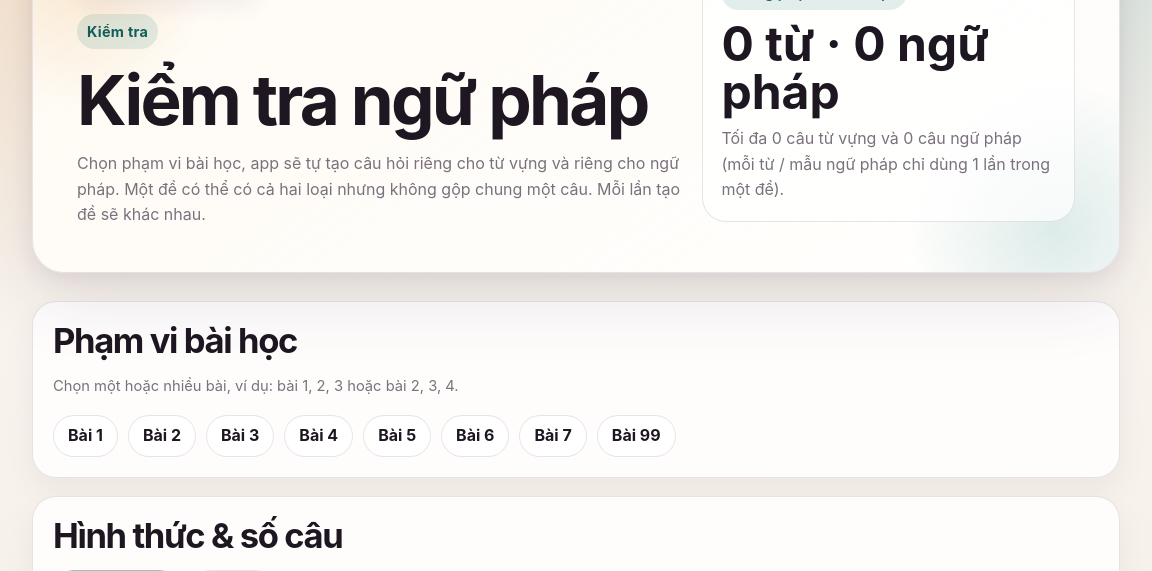
Test: GrammarExamPage — làm đề trắc nghiệm › cho làm đề khác sau khi nộp bài
Click the button "Bài 99".
click(636, 436)  # box [597,415,676,457]
(page scrolled)
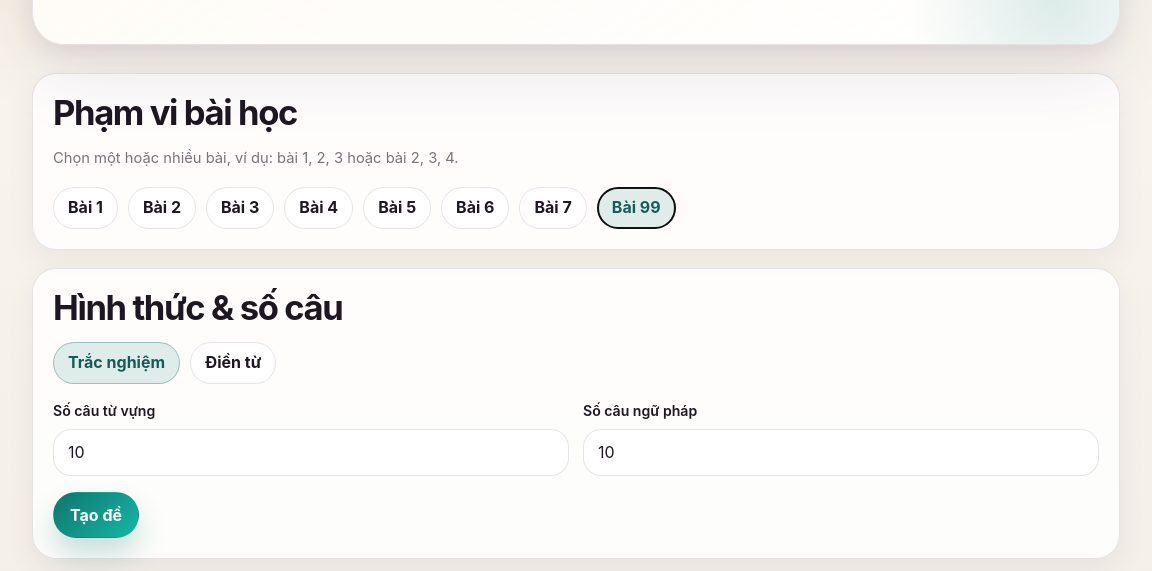
Click the button "Tạo đề".
click(96, 515)  # box [53,492,139,538]
(page scrolled)
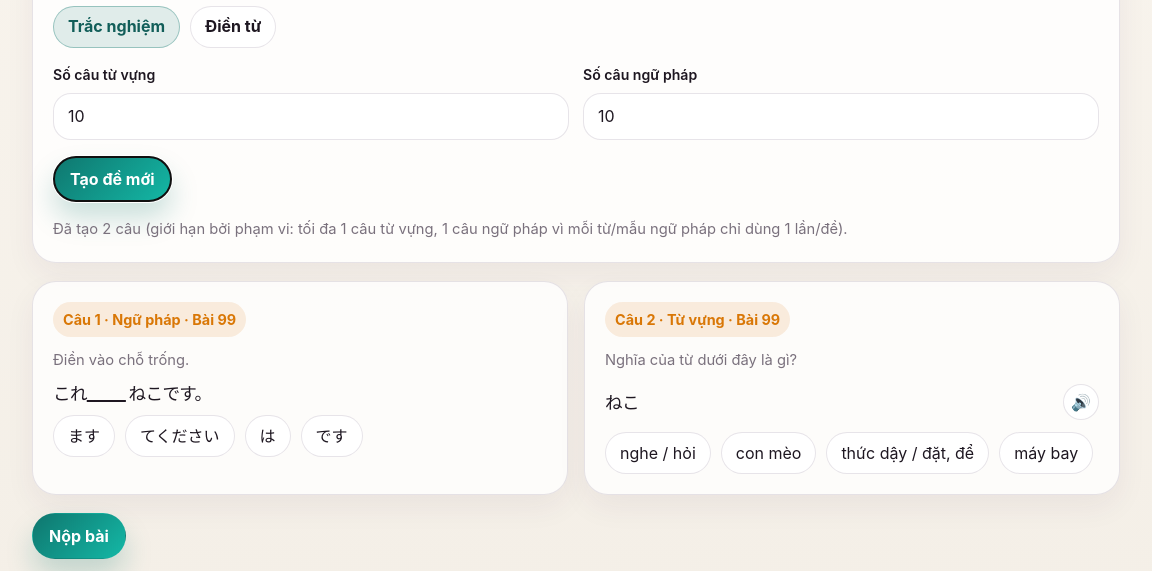
Click the button "Nộp bài".
click(79, 536)  # box [32,514,126,560]
(page scrolled)
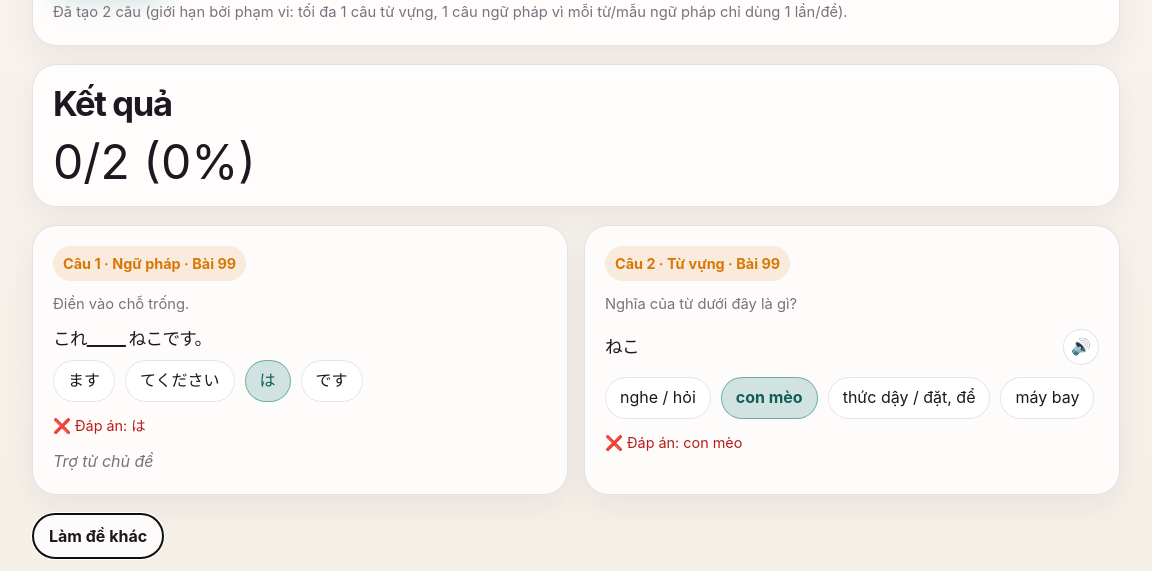
Click the button "Làm đề khác".
click(98, 536)  # box [32,513,164,559]
(page scrolled)
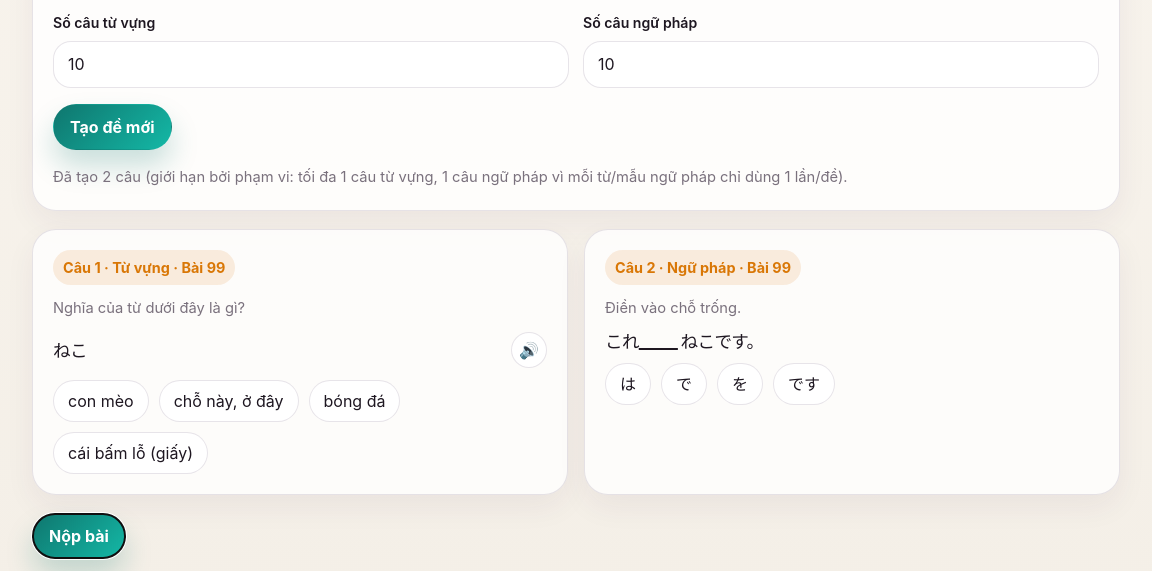
Result: the heading "Kết quả" is gone
Result: the button "Nộp bài" is shown at [32,514,126,560]
